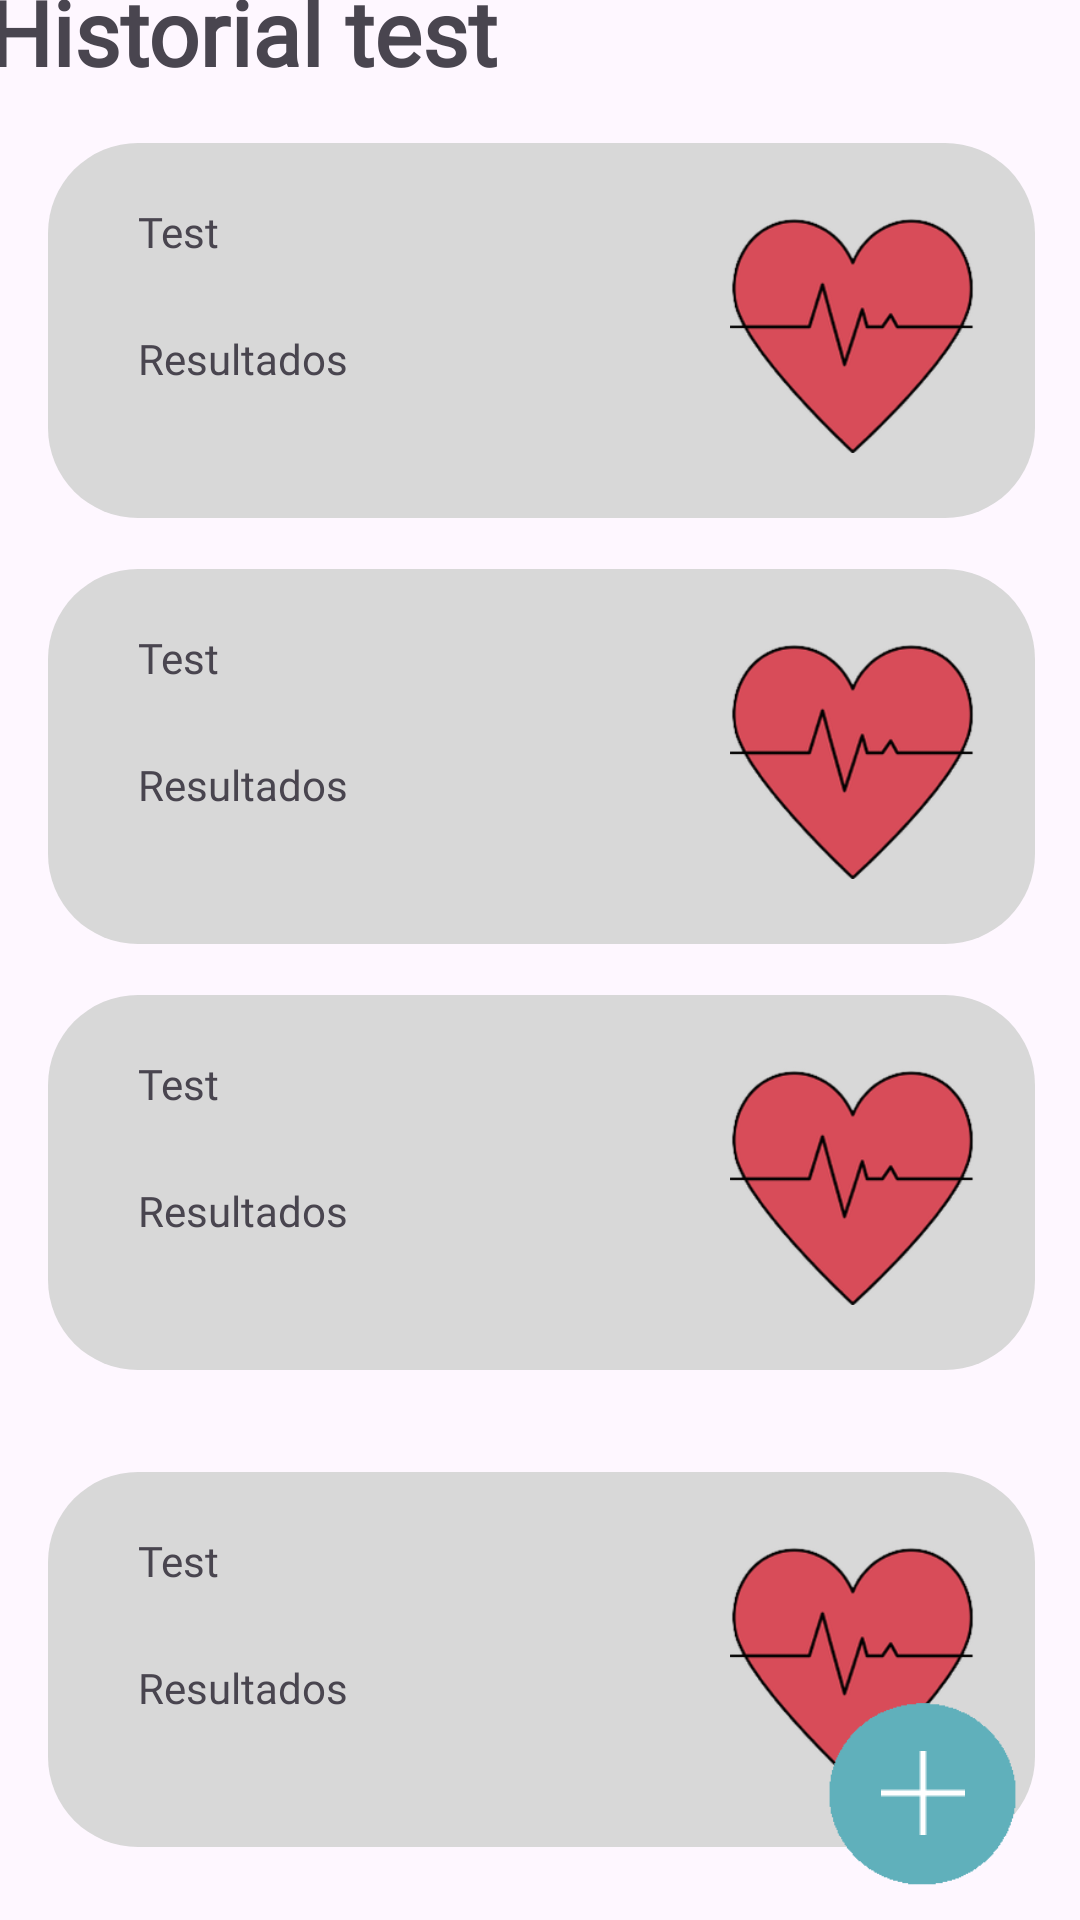

Point at icon controls on the screen. Image size 1080px×1920px, points as (x,y).
crear: (922,1792)
